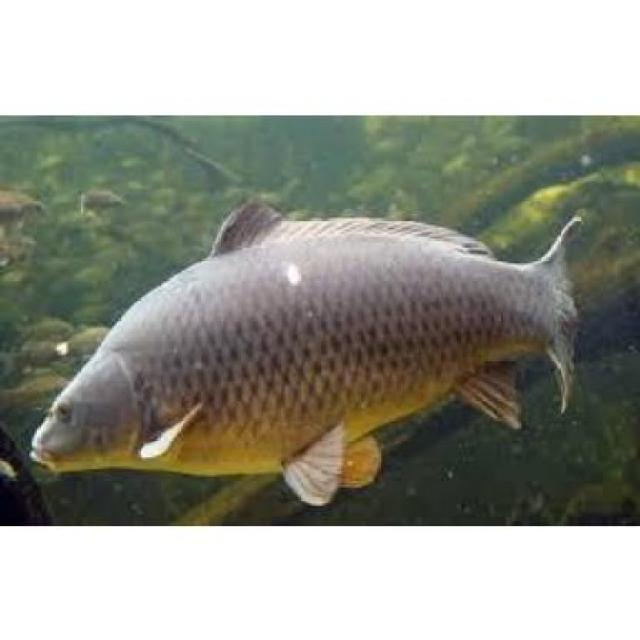ikan-mas: (28, 205, 584, 484)
